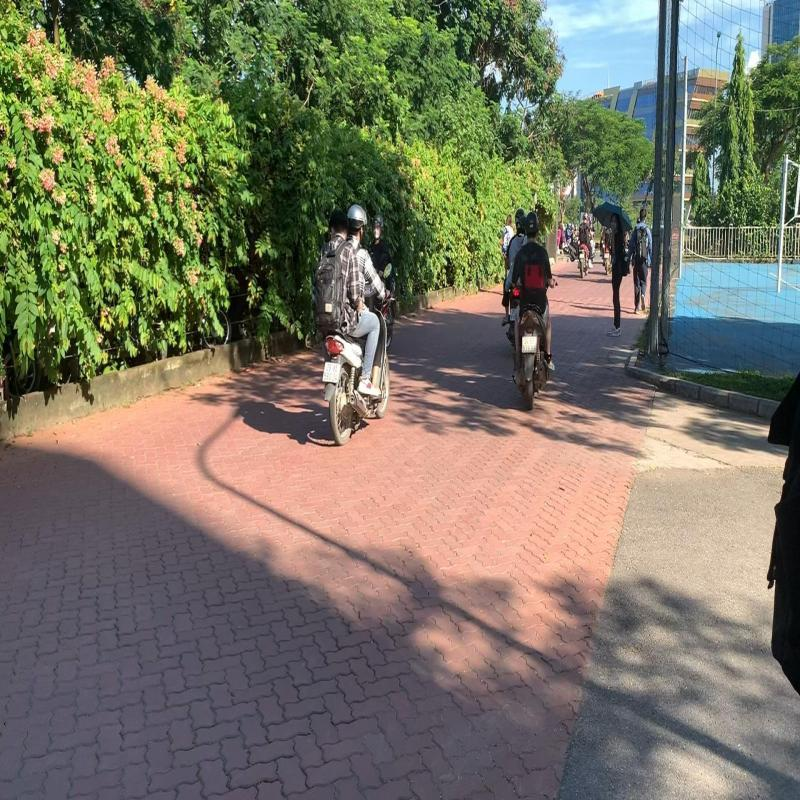helmet: (348, 202, 368, 237), (524, 211, 540, 240)
licenseplate: (322, 360, 341, 384), (522, 335, 538, 355)
motorcyclist: (312, 202, 396, 448), (509, 210, 556, 411)
nohelmet: (328, 207, 349, 241)
